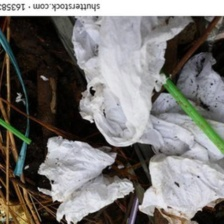tissue: (64, 16, 198, 152), (132, 48, 223, 168), (32, 131, 139, 224), (134, 150, 223, 223)
